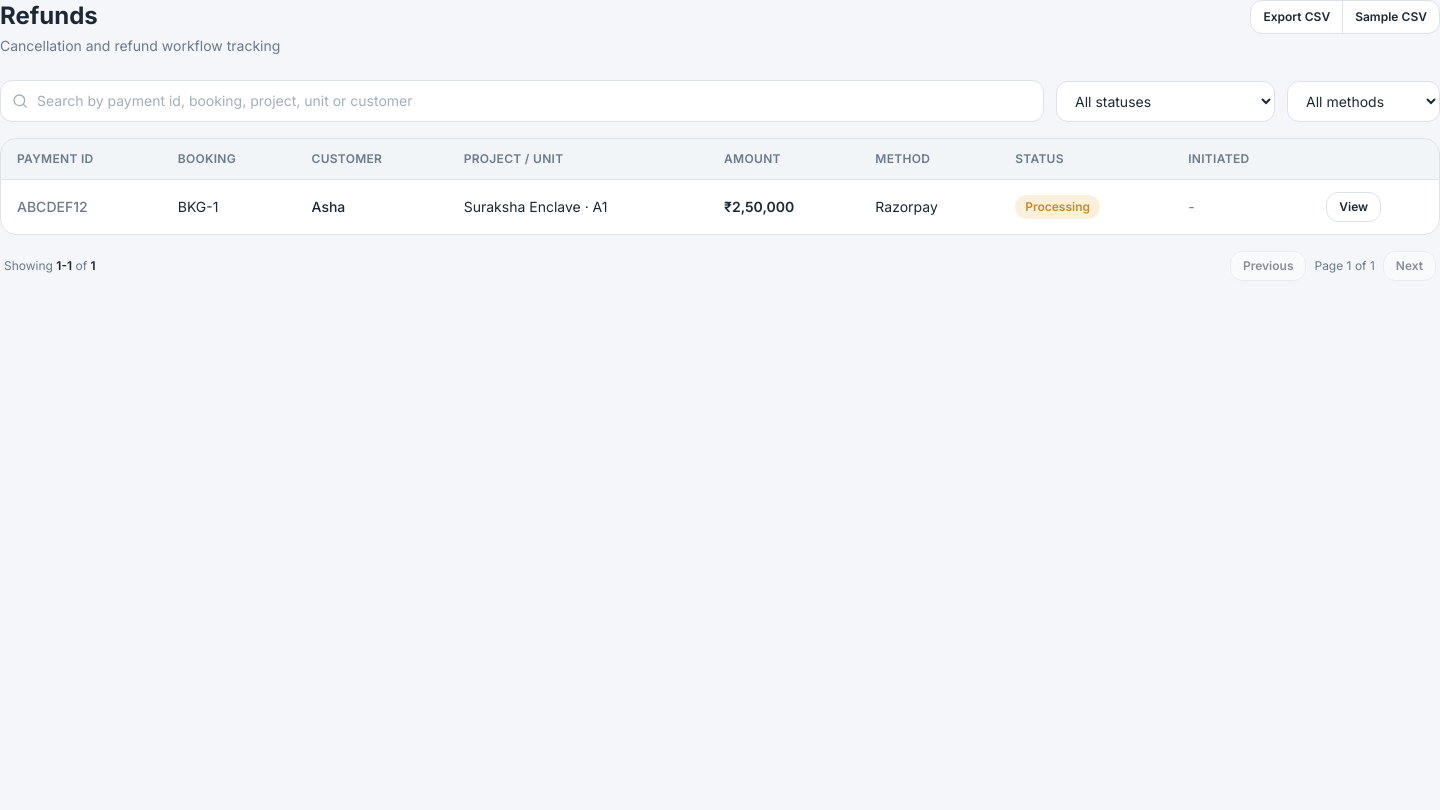
RefundsPage - a refund paid back by hand › keeps a gateway refund as it was
Click the button "View".
click(1354, 207)  # box [1326,192,1381,222]
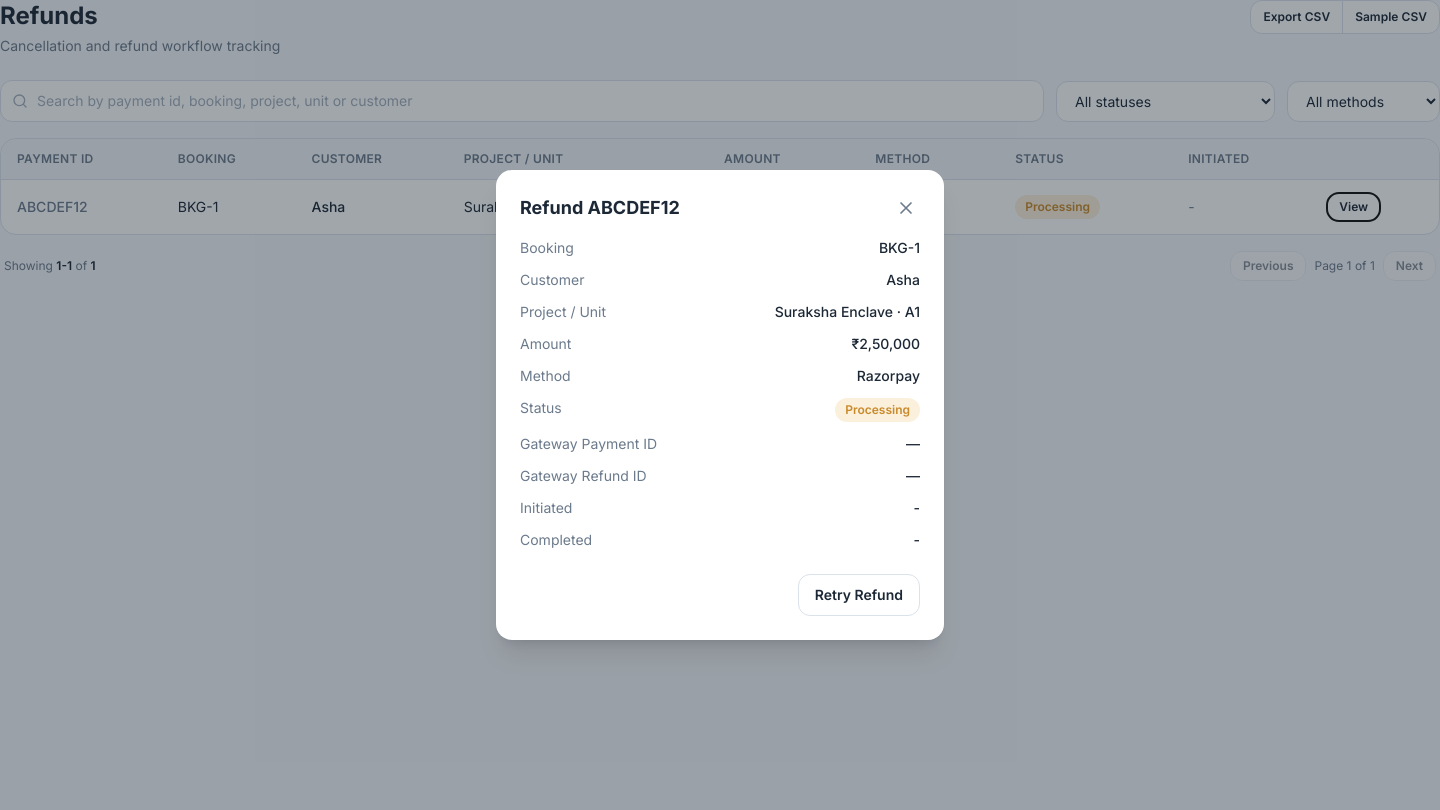
Expected: the heading "Refund ABCDEF12" is shown, [520,194,680,222]
Expected: the button "Retry Refund" is shown, [798,574,920,616]
Expected: the text "Gateway Refund ID" is shown, [520,466,647,486]
